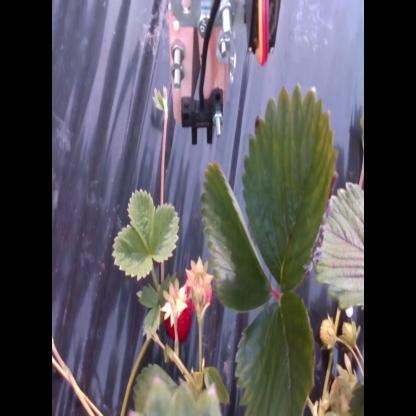ripe: (162, 289, 194, 340)
unripe: (186, 262, 214, 310), (318, 314, 338, 354), (342, 318, 360, 348)
